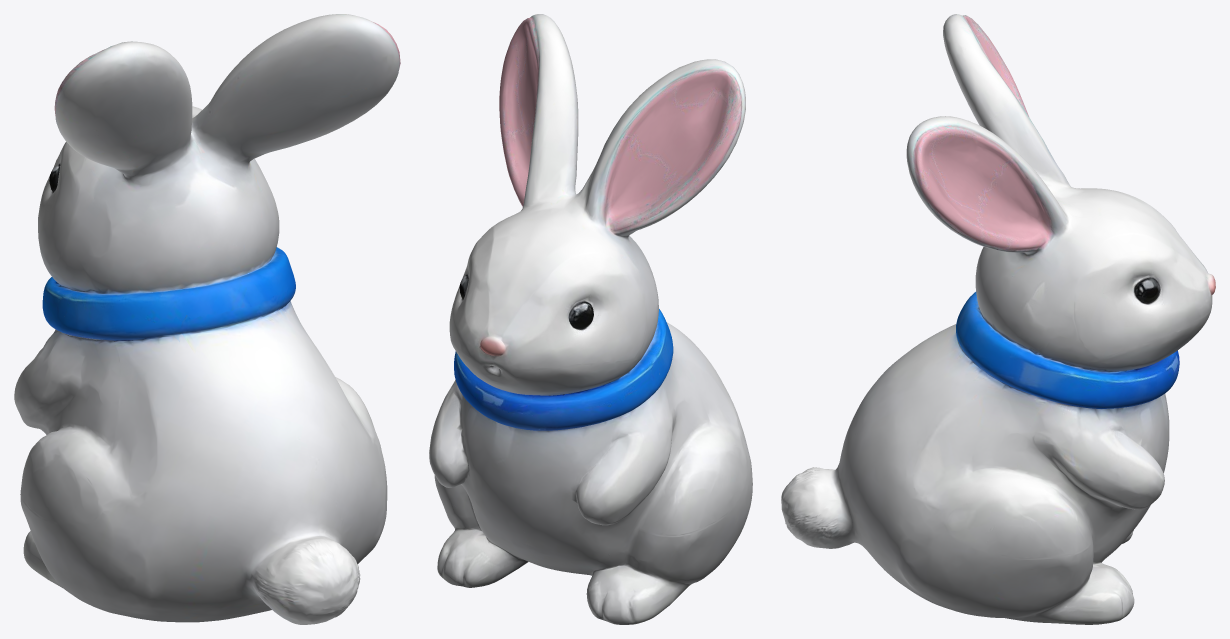
File: rabbit.glb
The picture shows the model from 3 angles, left to right: view 1: azimuth 30°, elevation 25°; view 2: azimuth 150°, elevation 25°; view 3: azimuth 270°, elevation 25°; orthographic projection. The views are drawn at different scales.
Visible parts, largest first — view 1: tripo_node_41a259d6-0de8-4e2a-b268-e99c95d6d392; view 2: tripo_node_41a259d6-0de8-4e2a-b268-e99c95d6d392; view 3: tripo_node_41a259d6-0de8-4e2a-b268-e99c95d6d392.
Part boxes in pixels (box(x1,y1,x2,y2)): tripo_node_41a259d6-0de8-4e2a-b268-e99c95d6d392: box(14, 14, 400, 624); tripo_node_41a259d6-0de8-4e2a-b268-e99c95d6d392: box(429, 14, 752, 624); tripo_node_41a259d6-0de8-4e2a-b268-e99c95d6d392: box(781, 14, 1215, 624).
Bounding box in the file's own units: 0.5563 × 0.9798 × 0.7565.
Materials: 1 (1 with a texture image).
